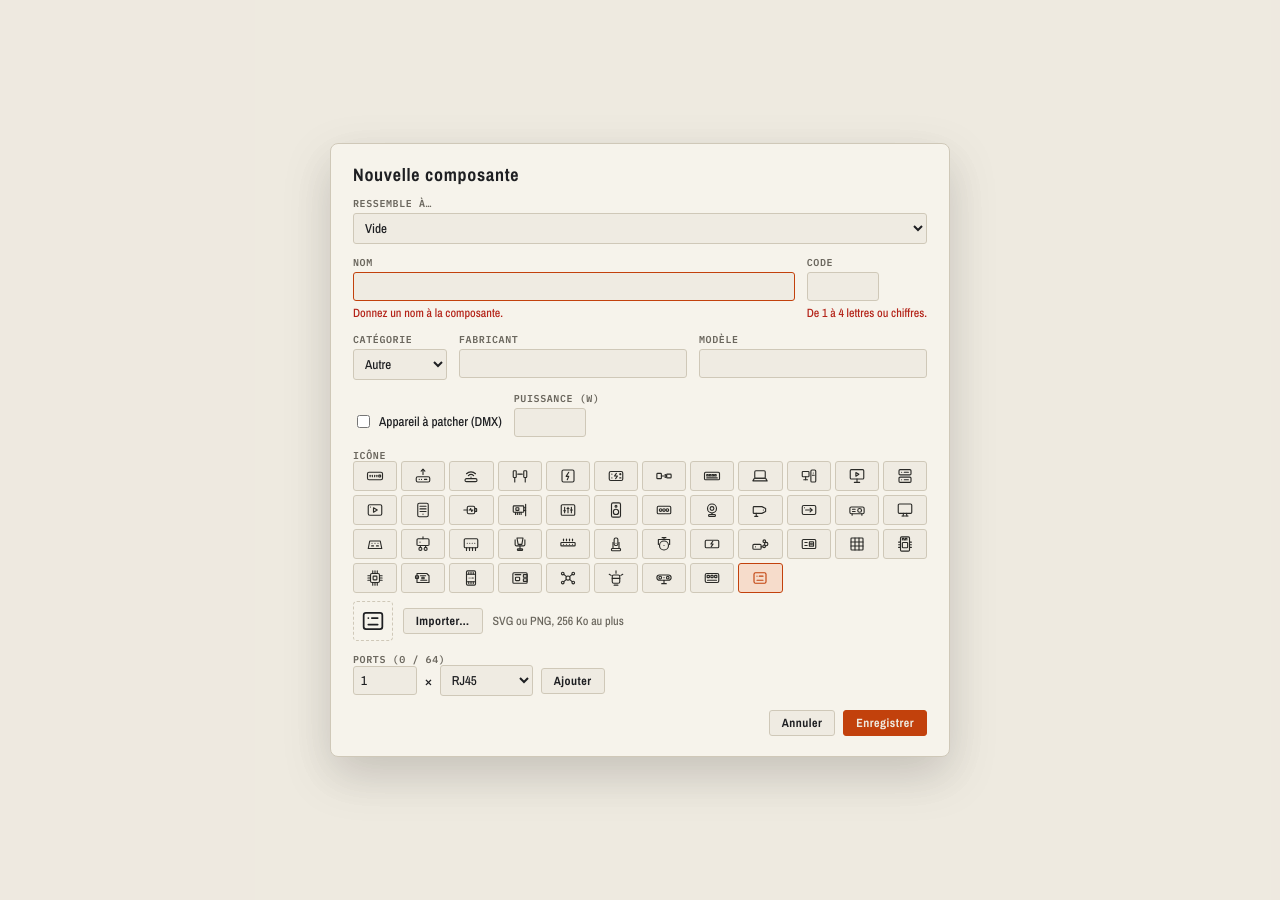
Test: ComponentEditor › Entrée dans « Nombre de ports » ajoute les ports sans enregistrer
The image size is (1280, 900).
Type "Capteur LiDAR" into the field labelled "Nom" at (574, 287), box [353, 272, 795, 301]
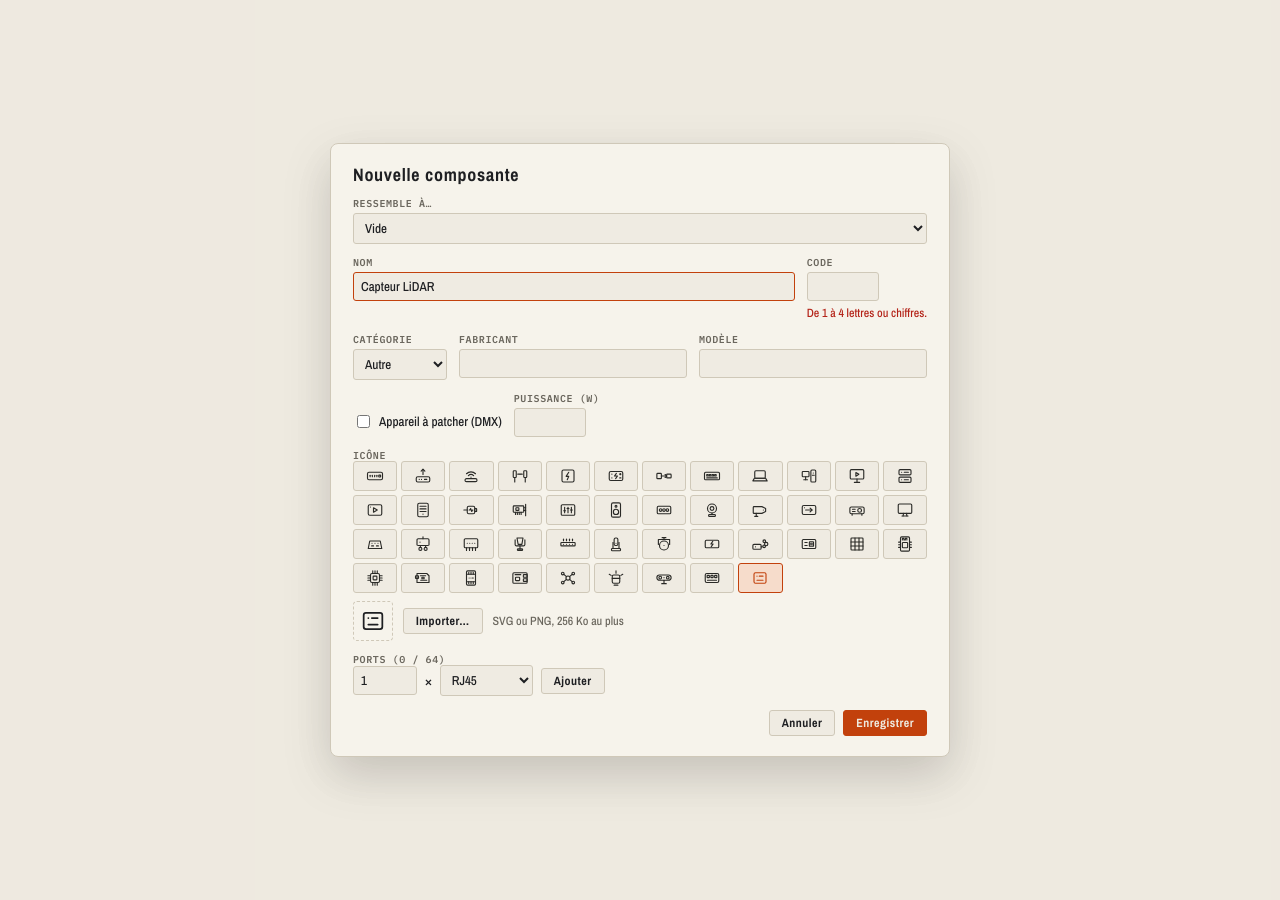
Type "lid" into the field labelled "Code" at (843, 287), box [807, 272, 879, 301]
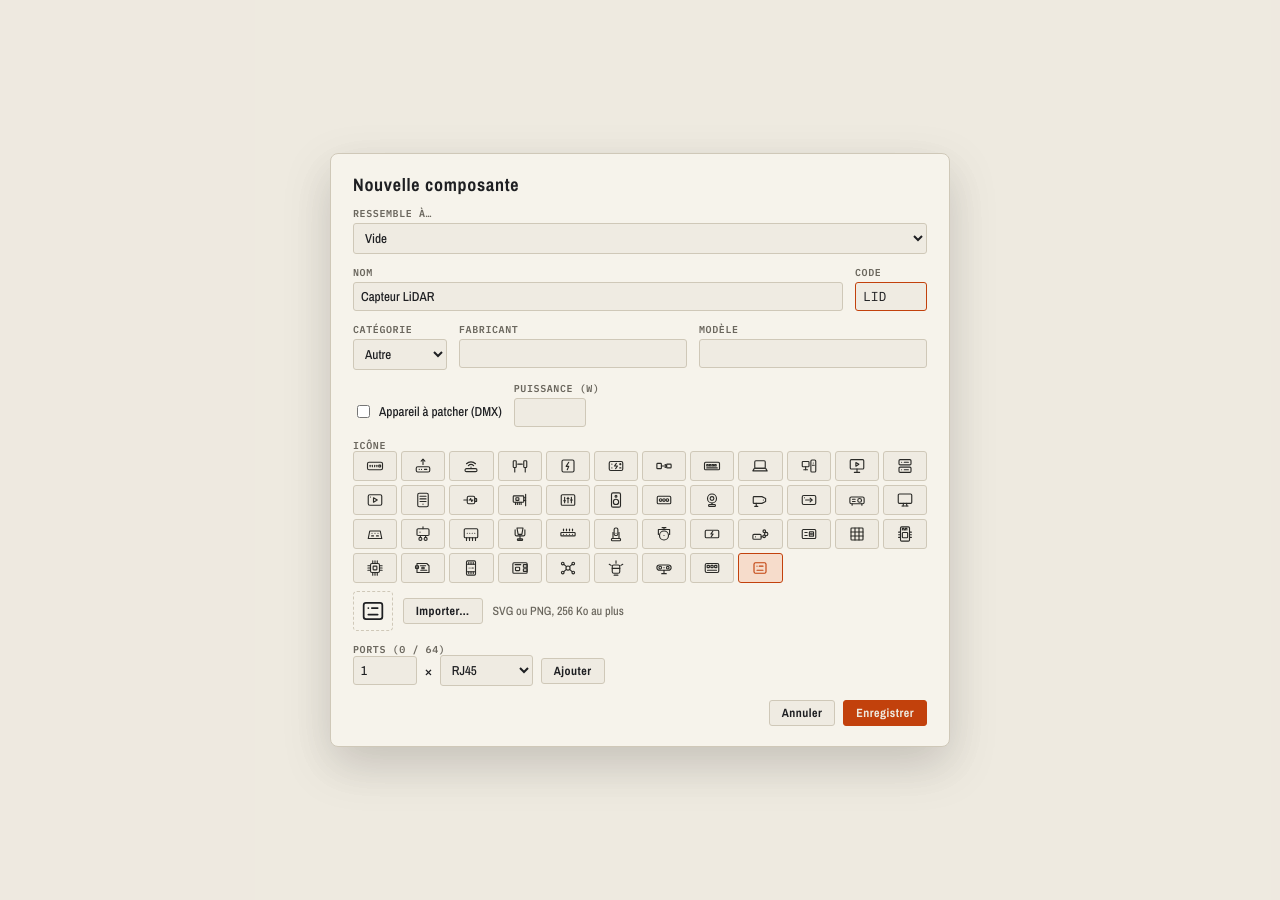
Replace the text in the number field named "Nombre de ports" with "3" at (385, 671), box [353, 656, 417, 685]
Then press Enter
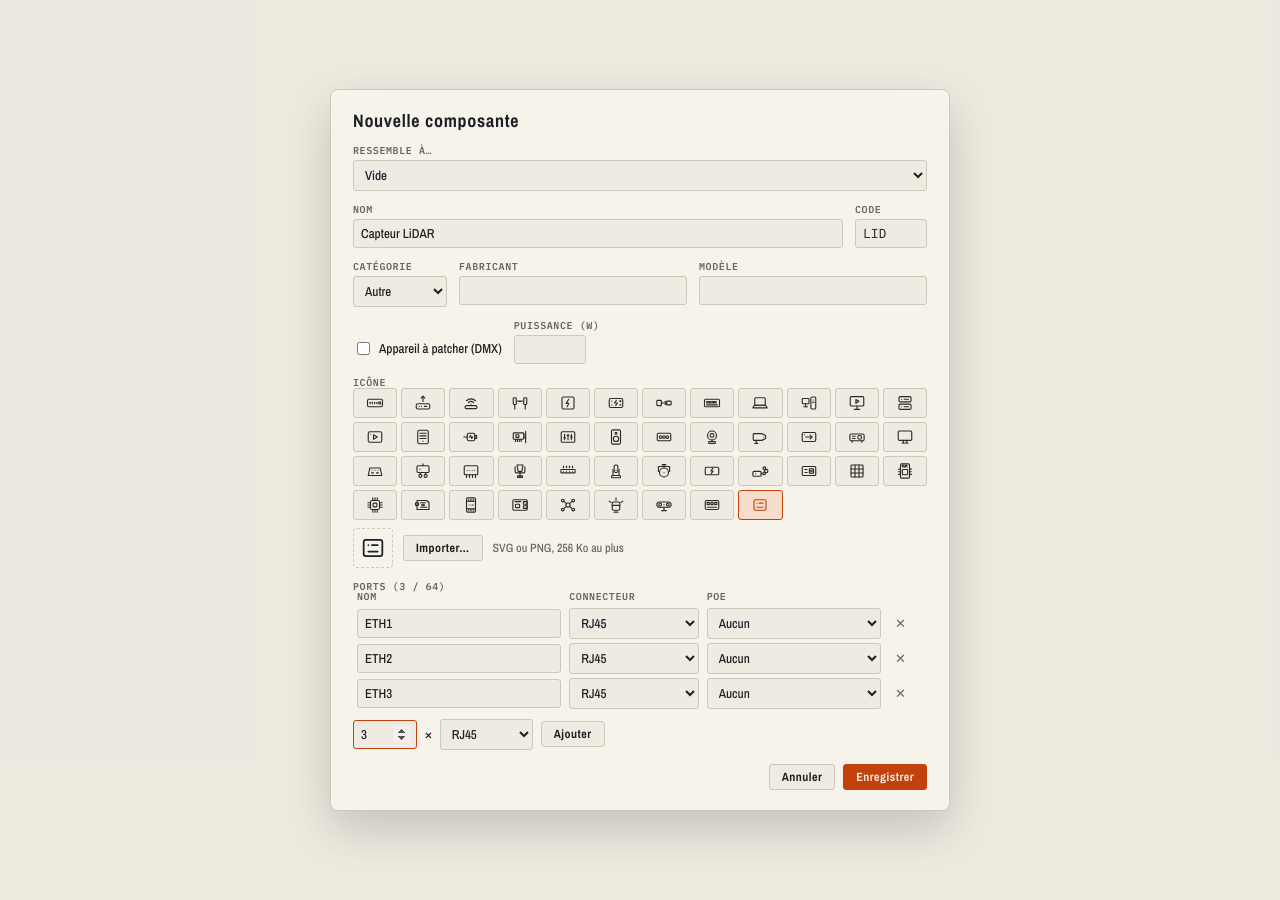
Result: the field named "Nom du port 3" is shown at [357, 679, 561, 708]
